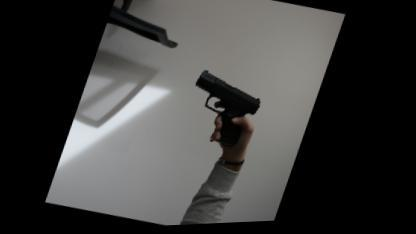pistol: (178, 68, 272, 155)
